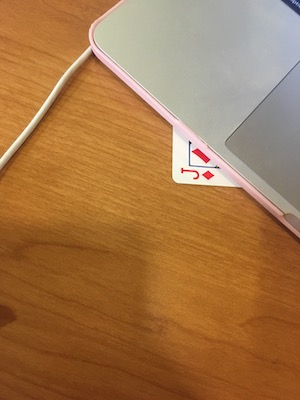JackOfDiamonds: (161, 121, 258, 201)
